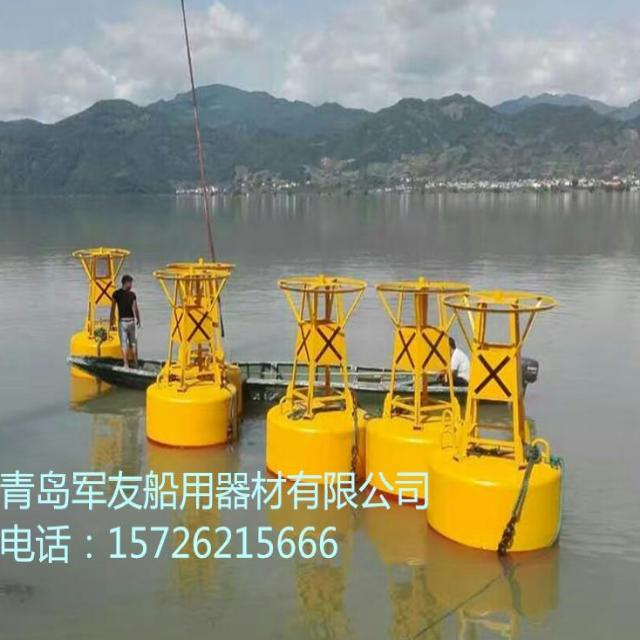buoy: (432, 288, 566, 551), (369, 273, 473, 498), (265, 268, 370, 478), (146, 256, 240, 446), (70, 243, 135, 373)
